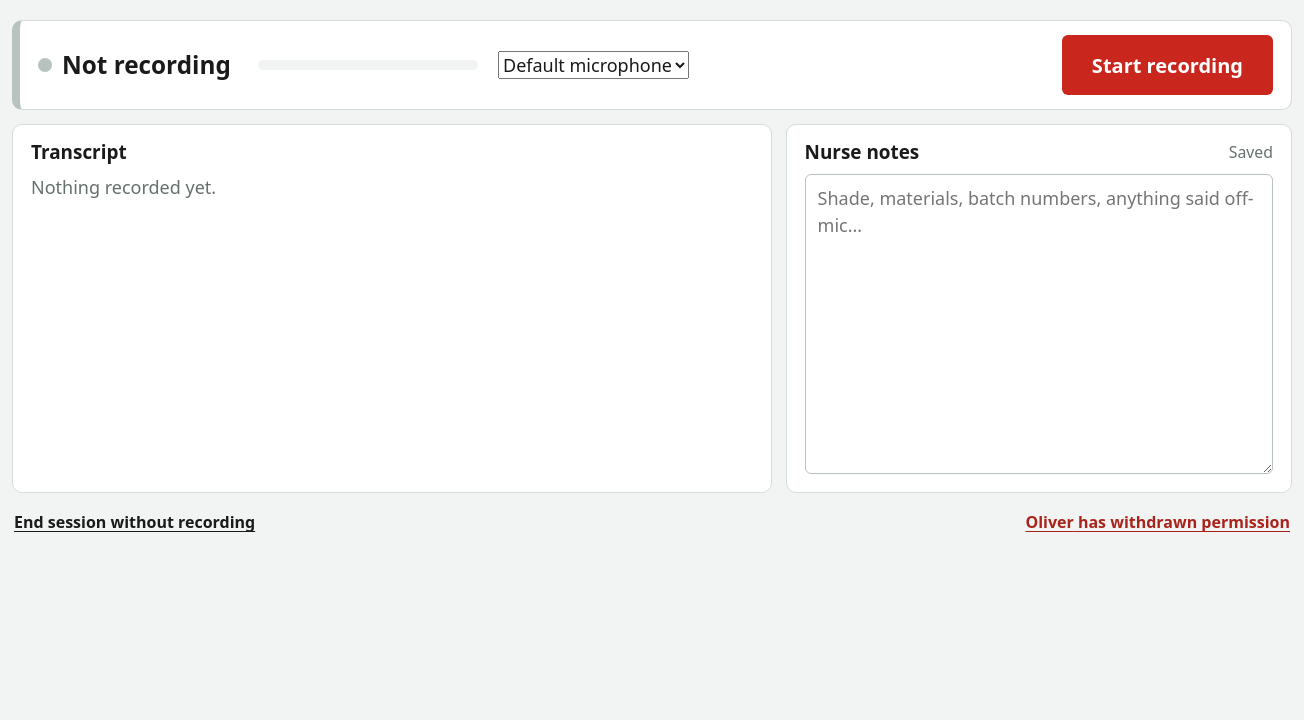
Test: scribe workspace › says plainly when the microphone cannot be used, and records nothing
Click the button "Start recording" at (1167,65), box [1062,35,1273,95]
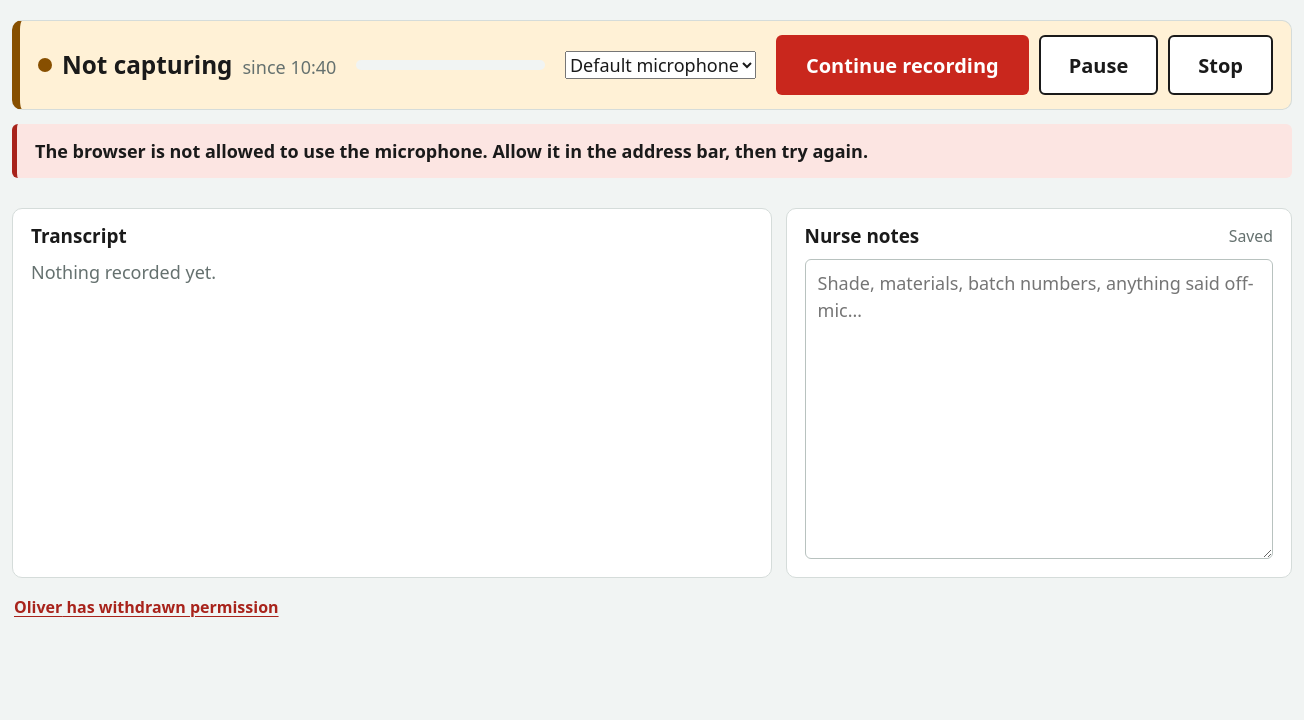
Expected: the text "not allowed to use the microphone" is shown, [35,139,868,163]
Expected: the message "Not capturing since 10:40" is shown, [38,47,336,83]
Expected: the button "Continue recording" is shown, [776,35,1029,95]
